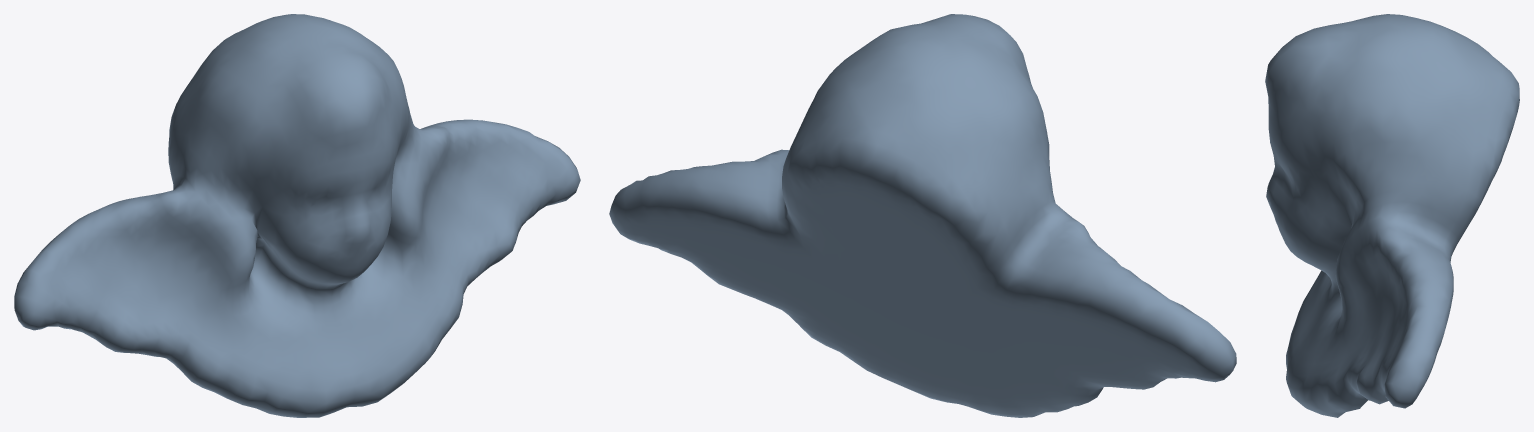
File: angel_quads.glb
3 views of the same model, side by side, from view 1: azimuth 30°, elevation 25°; view 2: azimuth 150°, elevation 25°; view 3: azimuth 270°, elevation 25° (orthographic). The views are drawn at different scales.
Bounding box in the file's own units: 67.68 × 41.19 × 25.76.
